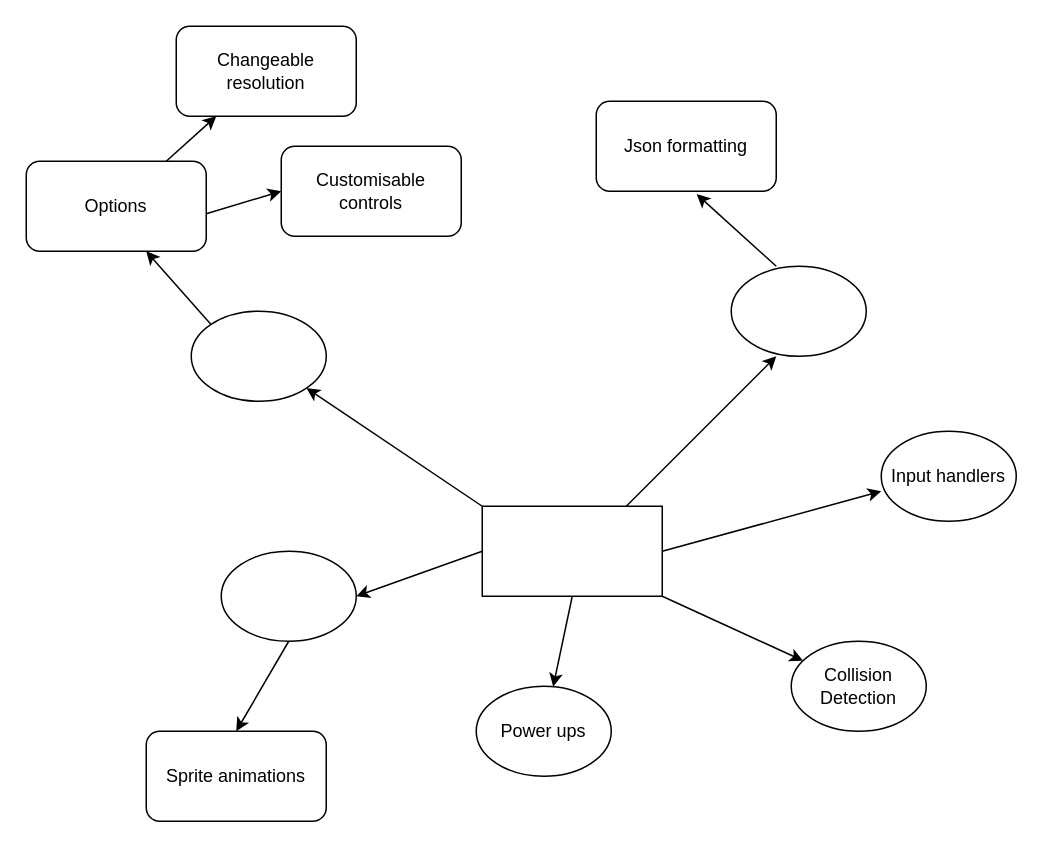
This 1043x848 diagram has some shape labels left out. The box of each missing label's shape, as (x1, y1, x2, y2) in pixels:
2D Game: (481, 505, 662, 596)
Hiscores: (730, 265, 866, 356)
Menu System: (190, 310, 326, 401)
Sprite & Font sheet loader: (220, 550, 356, 641)
